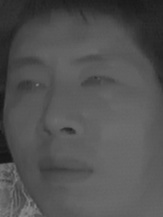eye: (14, 75, 50, 98), (78, 72, 115, 92)
mouth: (34, 149, 94, 188)
